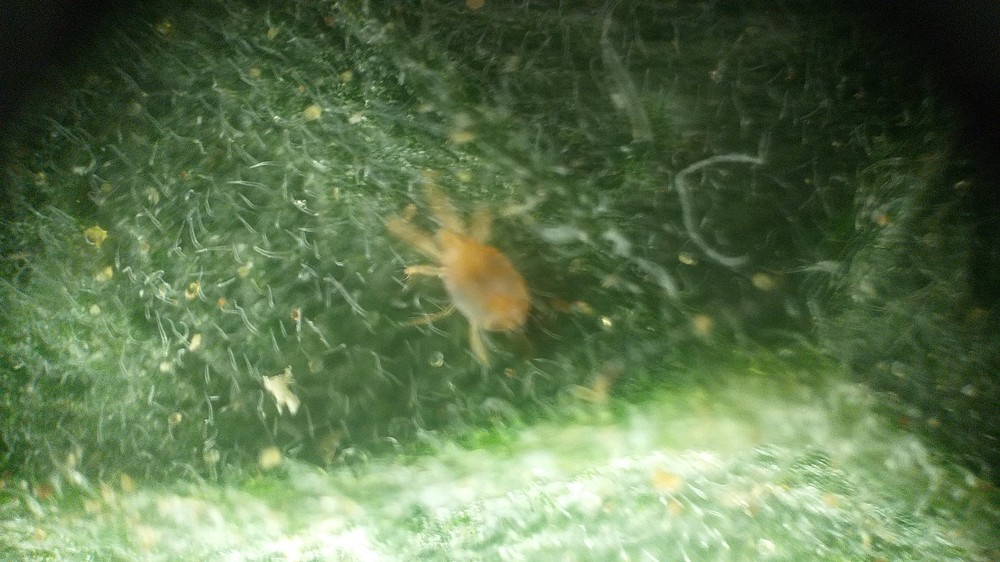Aracnido Rojo: (367, 174, 585, 371)
